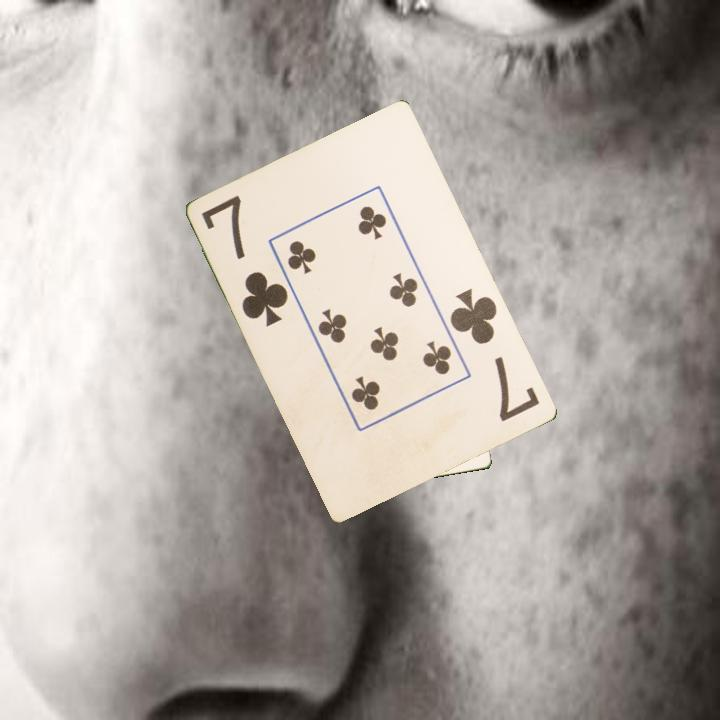7c: (446, 285, 543, 425), (198, 191, 292, 330)
